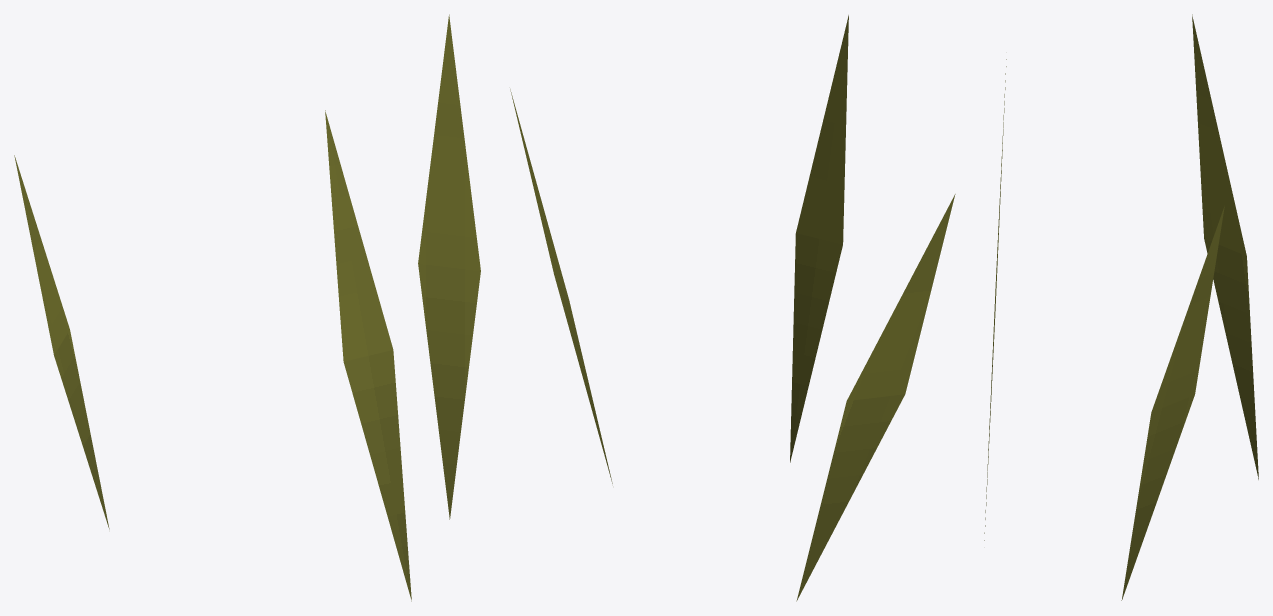
File: plants_me_dlc2_main_grass311.gltf
3 views of the same model, side by side, from view 1: azimuth 30°, elevation 25°; view 2: azimuth 150°, elevation 25°; view 3: azimuth 270°, elevation 25° (orthographic). The views are drawn at different scales.
Parts seen in each view (by area): view 1: plants_me_dlc2_main_grass311_mesh_shape:plants_me_dlc2_main_; view 2: plants_me_dlc2_main_grass311_mesh_shape:plants_me_dlc2_main_; view 3: plants_me_dlc2_main_grass311_mesh_shape:plants_me_dlc2_main_.
Boxes of the visible parts, bbox=[...] form: plants_me_dlc2_main_grass311_mesh_shape:plants_me_dlc2_main_: bbox=[14, 14, 480, 601]; plants_me_dlc2_main_grass311_mesh_shape:plants_me_dlc2_main_: bbox=[510, 15, 955, 601]; plants_me_dlc2_main_grass311_mesh_shape:plants_me_dlc2_main_: bbox=[984, 14, 1258, 600].
Size of the model in its own units: 0.4252 by 0.45 by 0.24.
1 material, 1 textured.
